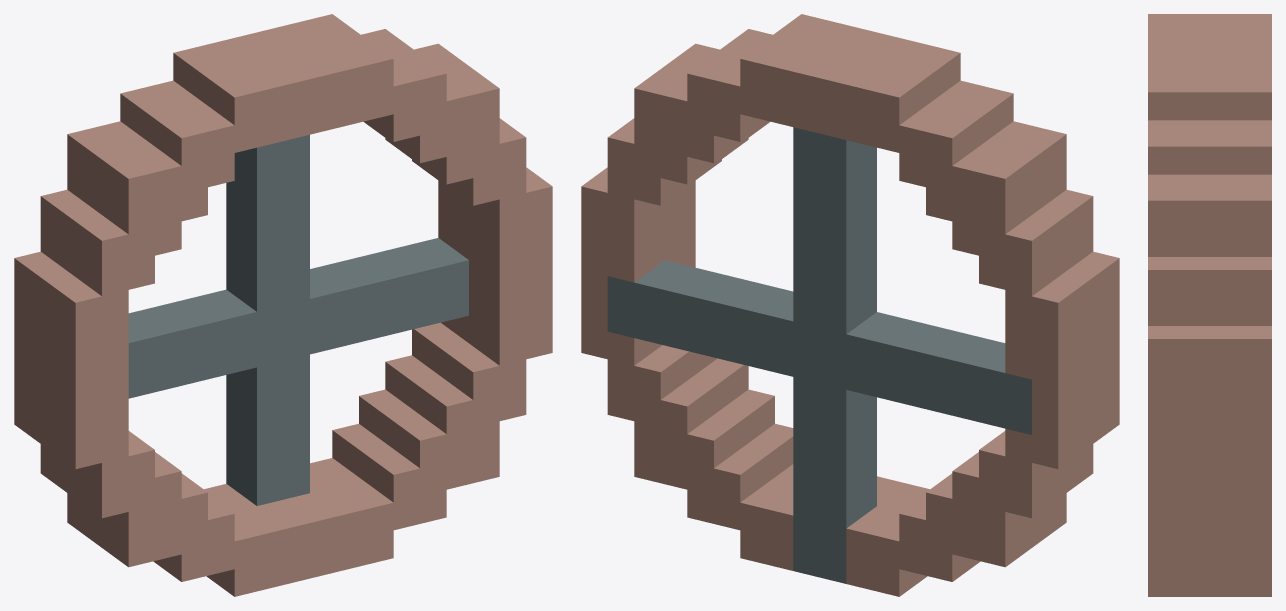
Rendered from art-05.glb.
3 renders of one model, left to right at view 1: azimuth 30°, elevation 25°; view 2: azimuth 150°, elevation 25°; view 3: azimuth 270°, elevation 25°, orthographic.
Visible parts, largest first — view 1: Pottery wheel; view 2: Pottery wheel; view 3: Pottery wheel.
Part boxes in pixels (x1,y1,x2,y2): Pottery wheel: (14, 14, 552, 596); Pottery wheel: (581, 14, 1119, 596); Pottery wheel: (1148, 14, 1271, 596).
Bounding box in the file's own units: 1.44 × 1.44 × 0.32.
